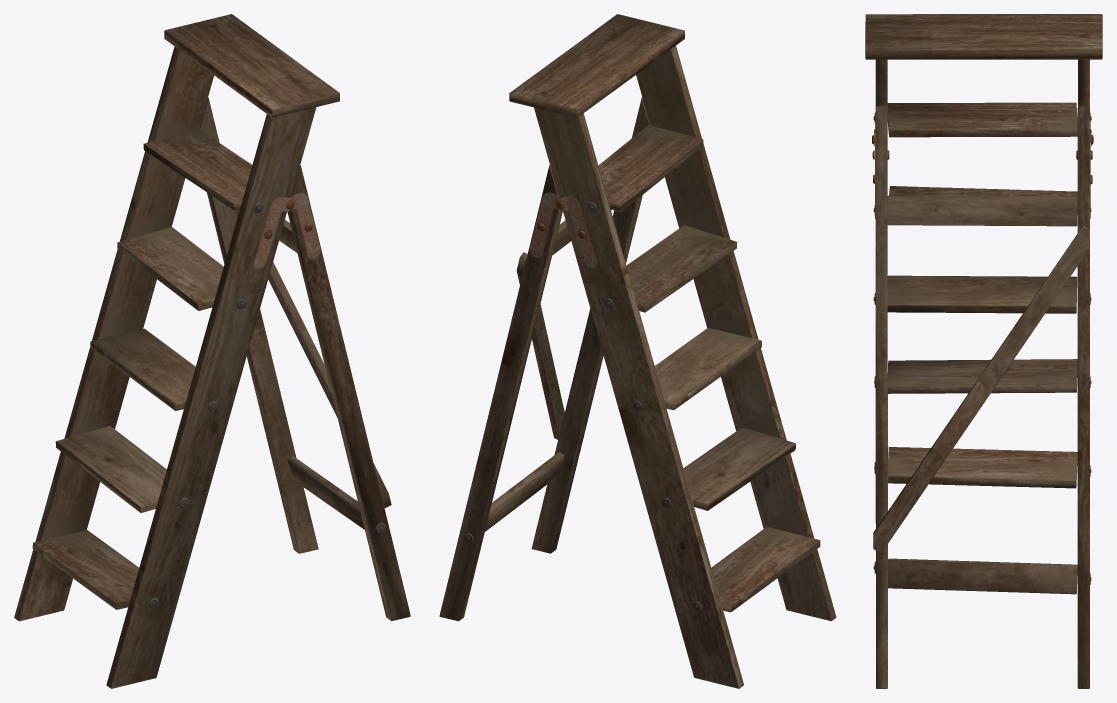
Rendered from ladder_wood.glb.
3 renders of one model, left to right at view 1: azimuth 30°, elevation 25°; view 2: azimuth 150°, elevation 25°; view 3: azimuth 270°, elevation 25°, orthographic. The views are drawn at different scales.
Parts seen in each view (by area): view 1: ladder_wood; view 2: ladder_wood; view 3: ladder_wood.
Part boxes in pixels (x1,y1,x2,y2): ladder_wood: (14,14,410,688); ladder_wood: (439,14,836,688); ladder_wood: (865,14,1102,688).
Bounding box in the file's own units: 0.9895 × 1.72 × 0.6181.
Materials: 1 (1 with a texture image).
